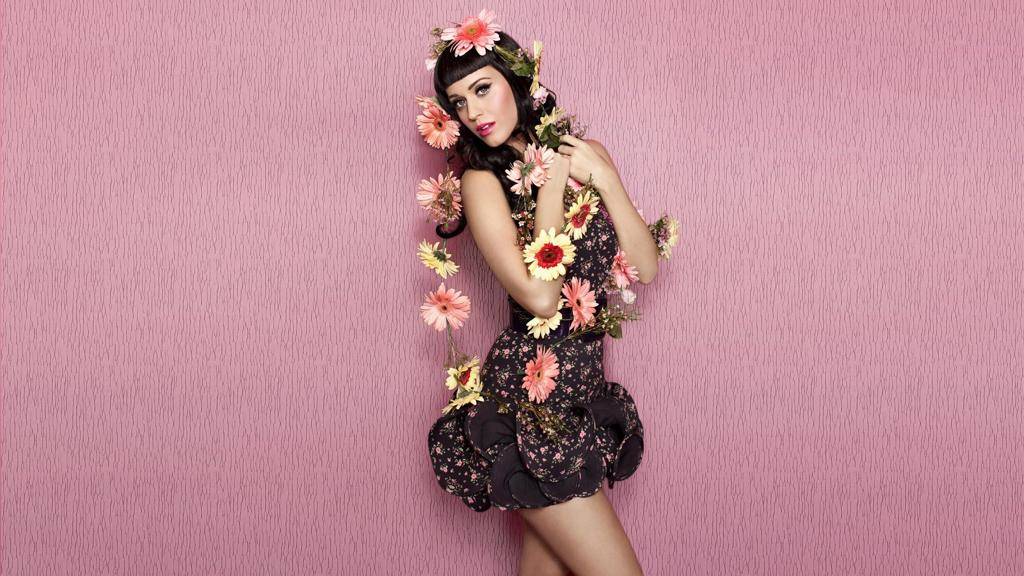face: (448, 64, 520, 146)
